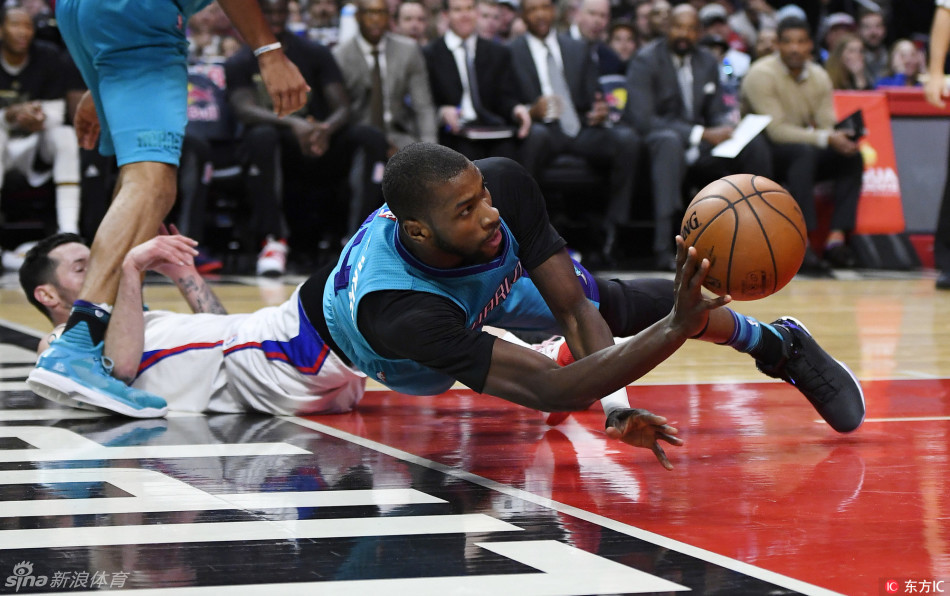10+: (1, 5, 950, 435)
down: (309, 128, 860, 436), (8, 203, 412, 435)
